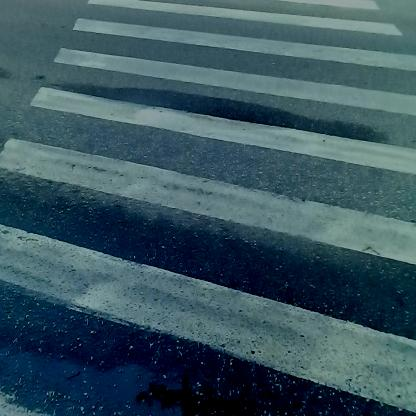crosswalk: (3, 11, 411, 376)
